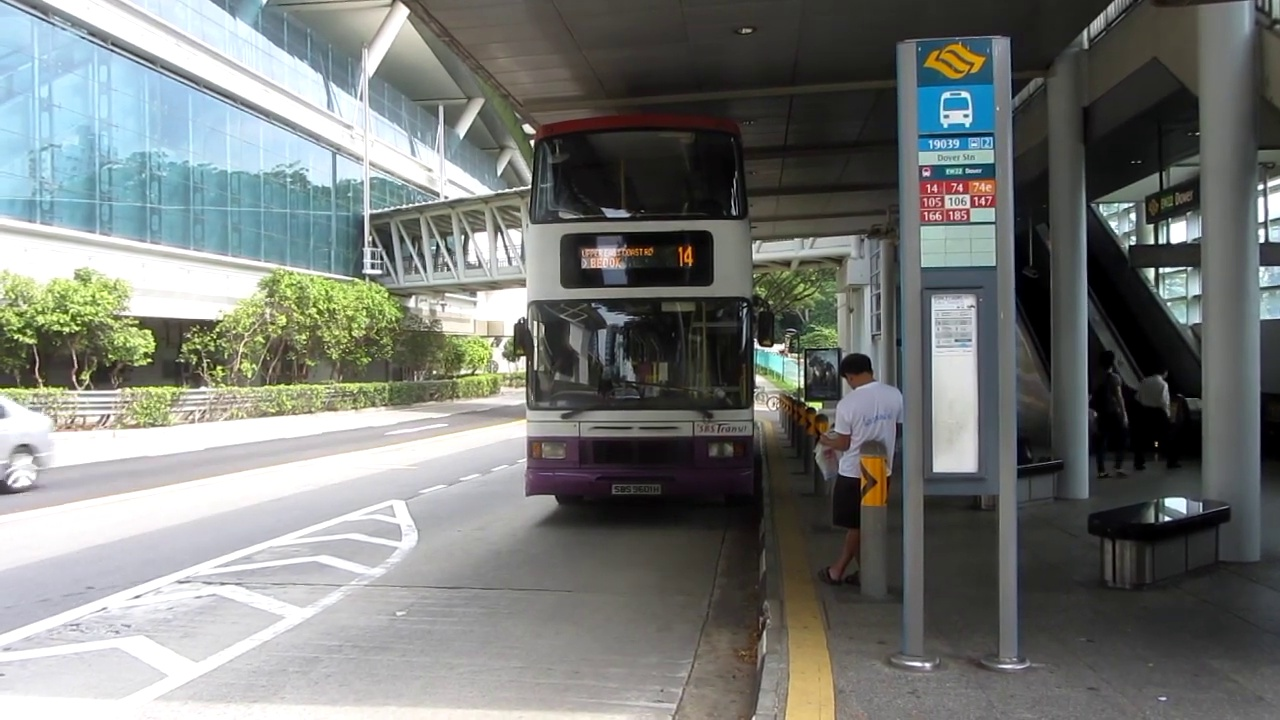bus panel: (577, 243, 697, 271)
